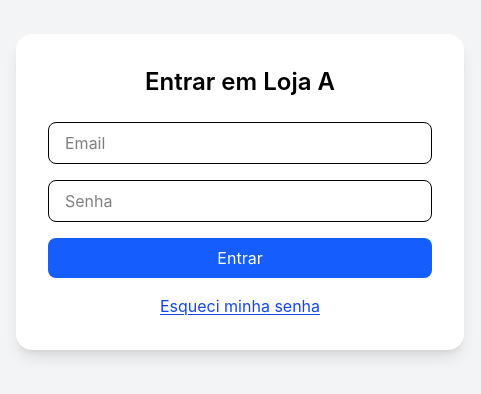
LoginPage › shows an error and does not persist a session when login response has no token
The image size is (481, 394).
Step 1. Type "michel@example.com" into the field with placeholder "Email" → (240, 143), box [48,122,432,164]
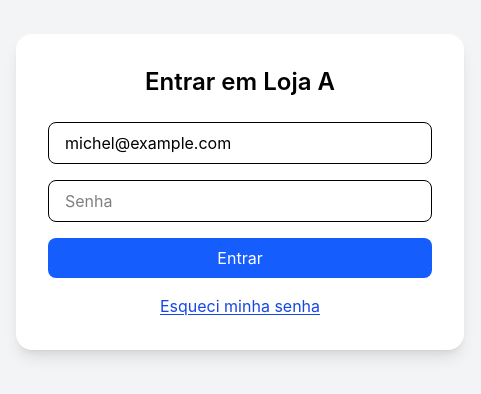
Step 2. Type "password123" into the password field with placeholder "Senha" → (240, 201), box [48,180,432,222]
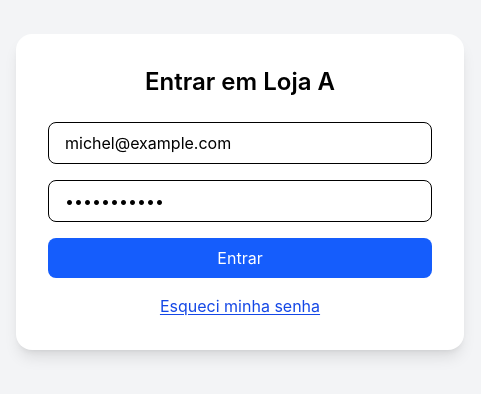
Step 3. Click the button "Entrar" → (240, 258), box [48,238,432,278]
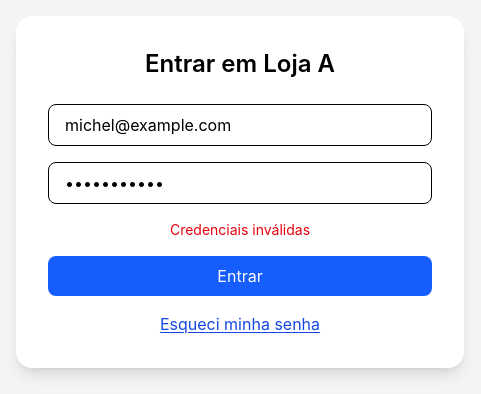
Now the text "Credenciais inválidas" is shown, box [170,221,310,238]
